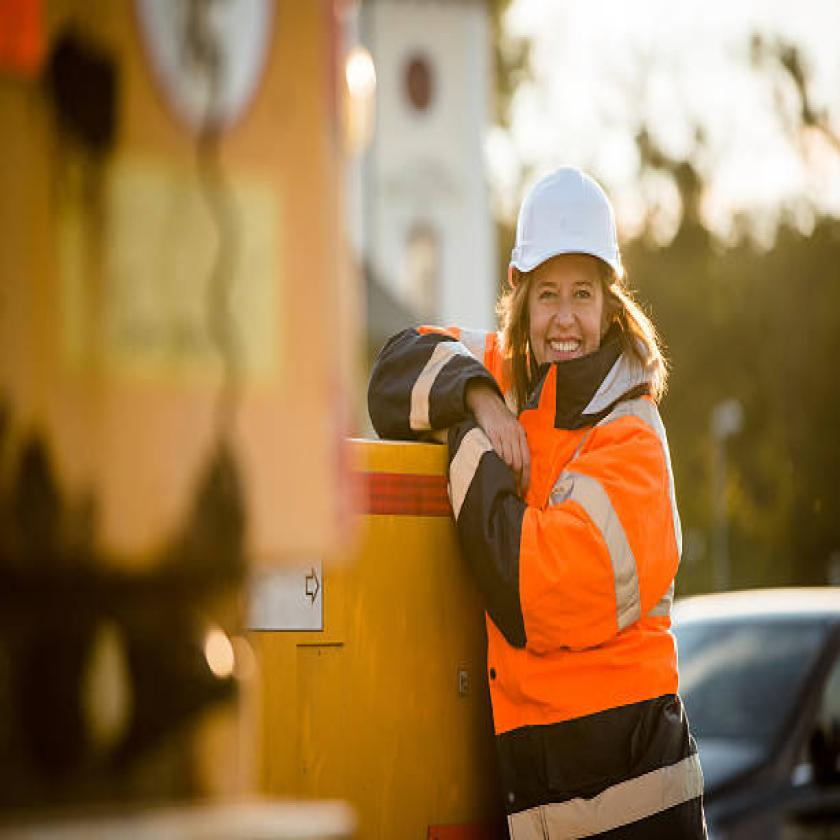Con_casco: (494, 139, 640, 403)
